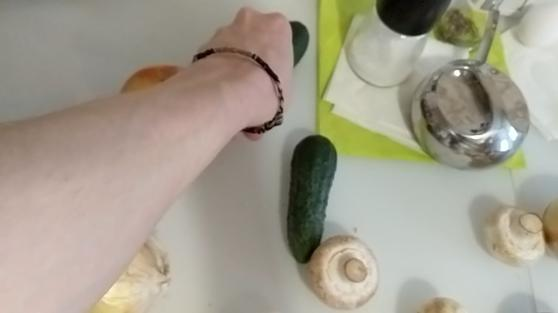champignon: (311, 236, 382, 307), (483, 207, 547, 267)
cucumber: (288, 136, 337, 265)
